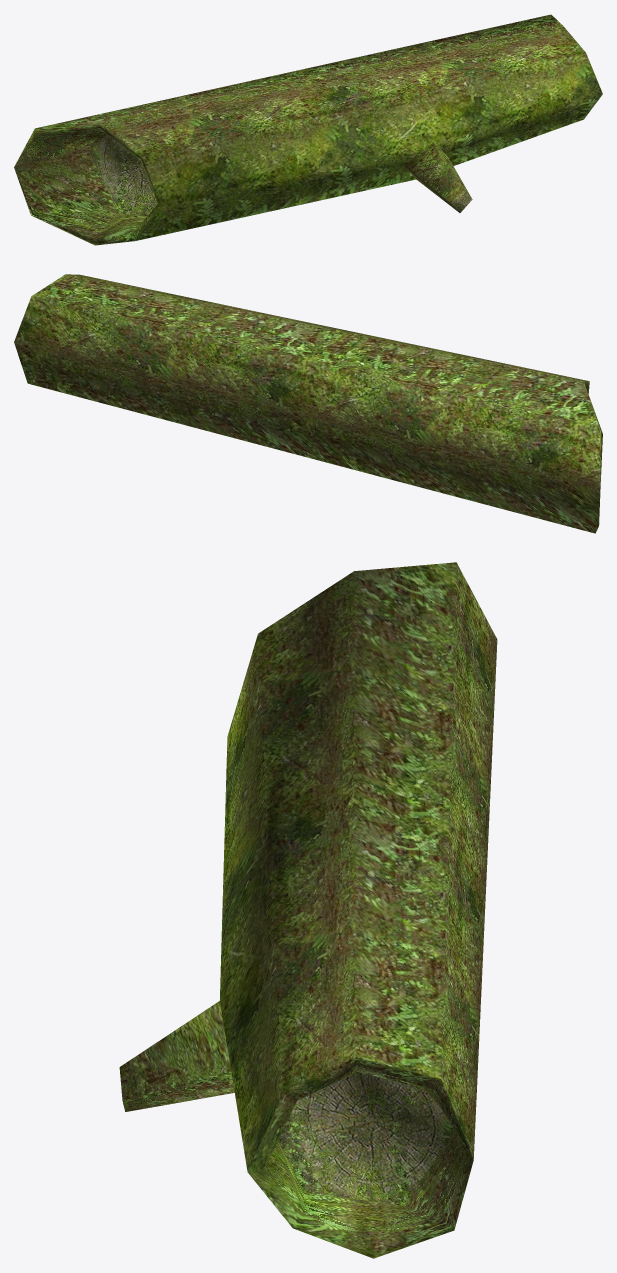
The model's file is ever_endr_mossylog_l1.fbx.
3 renders of one model, top to bottom at view 1: azimuth 30°, elevation 25°; view 2: azimuth 150°, elevation 25°; view 3: azimuth 270°, elevation 25°, orthographic. The views are drawn at different scales.
Visible parts, largest first — view 1: mesh_node; view 2: mesh_node; view 3: mesh_node.
Boxes of the visible parts, x1,y1,x2,y2 form: mesh_node: [14, 14, 602, 245]; mesh_node: [14, 274, 602, 533]; mesh_node: [119, 562, 497, 1258].
Bounding box in the file's own units: 6.11 × 1.4 × 1.88.
